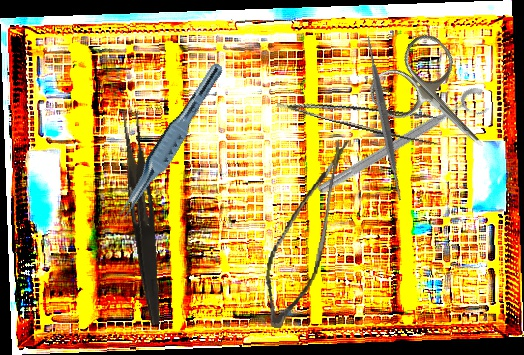Dressing Forceps: (114, 110, 172, 326)
Fixation Ring: (313, 82, 496, 209)
Iris Scissors: (362, 27, 514, 179)
Micro Scissor: (257, 127, 351, 335)
Spatula Surgical: (294, 29, 474, 208)
Tissue Forceps: (112, 56, 226, 228), (276, 76, 445, 150)
